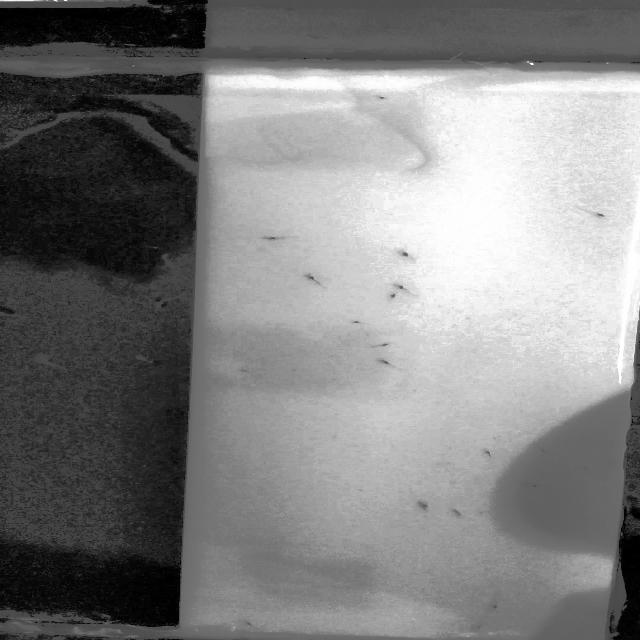shrimp: (574, 203, 618, 222), (295, 272, 328, 290), (378, 286, 409, 303), (255, 230, 298, 242), (389, 248, 424, 262), (467, 616, 494, 634), (522, 476, 554, 491), (416, 498, 436, 518), (527, 442, 551, 457), (346, 317, 376, 328), (488, 594, 506, 612), (478, 446, 499, 461), (378, 357, 402, 369), (444, 508, 472, 518), (574, 464, 600, 474), (366, 93, 394, 102), (238, 619, 268, 627), (391, 279, 408, 293), (372, 342, 401, 350), (233, 368, 264, 374)
